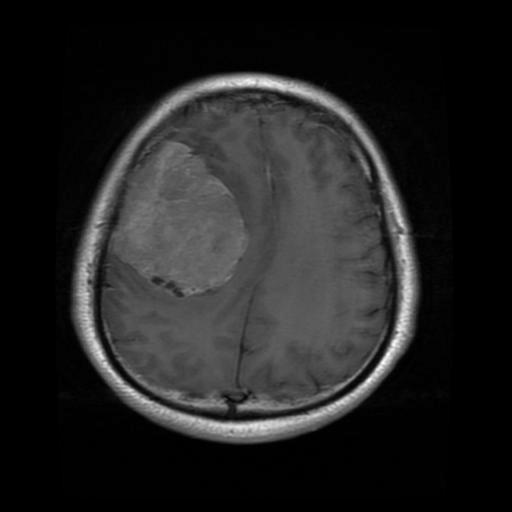Tumour-Pituitary: (106, 141, 258, 313)
